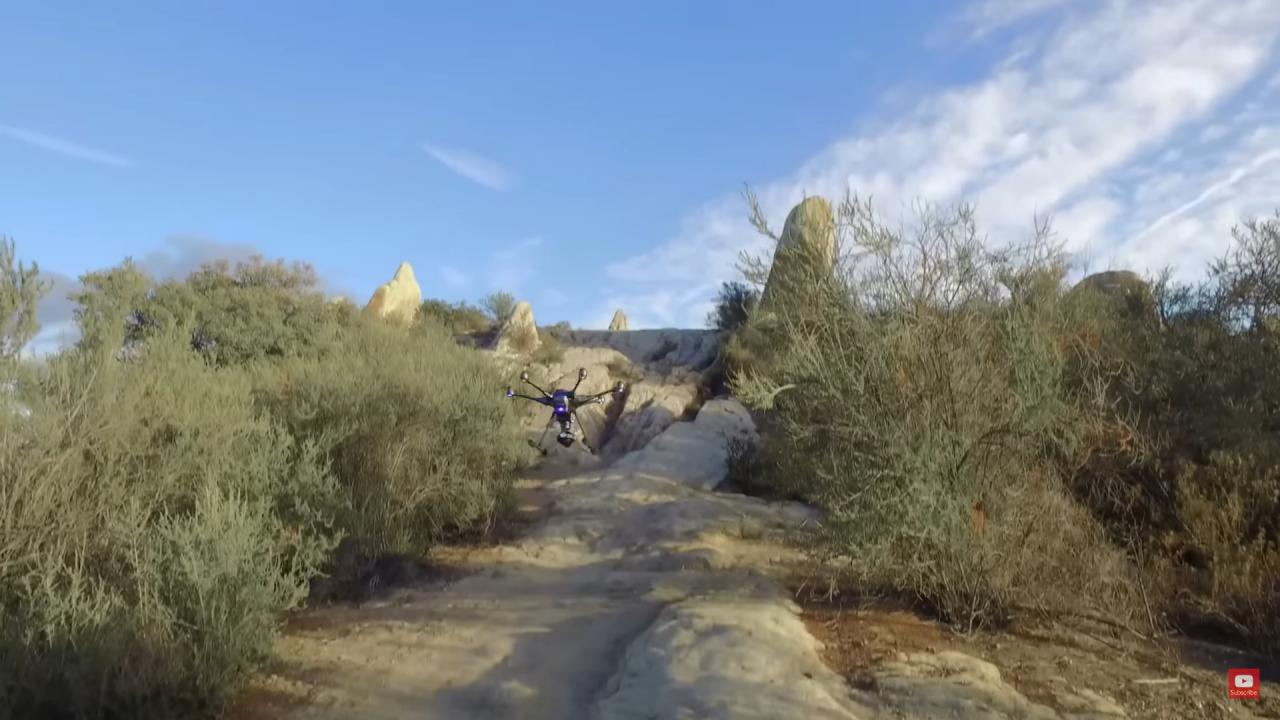Drone: (495, 355, 638, 464)
